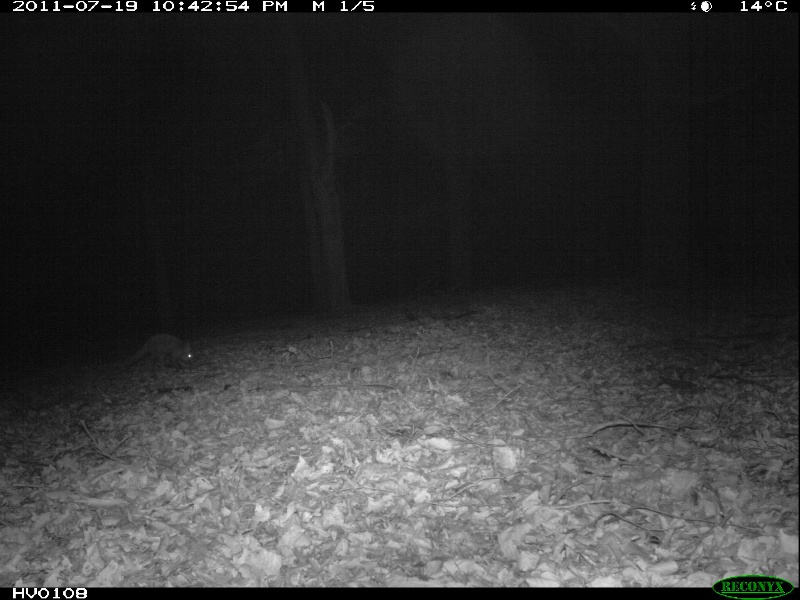fox: (131, 334, 197, 369)
